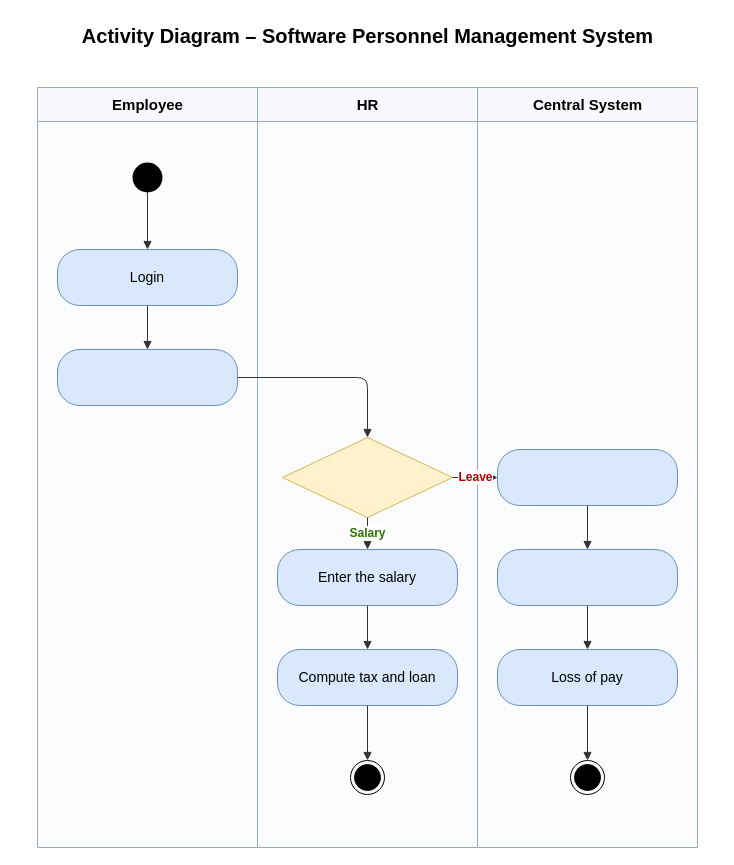
This 734x865 diagram has some shape labels left out. The shapes that lost their labels are listed below. From the top down, each one's centre as x and y in pixels, then its label:
(x=147, y=377): Enter the option to check
(x=367, y=477): Option to check?
(x=587, y=477): Enter the working days
(x=587, y=577): Leave taken
